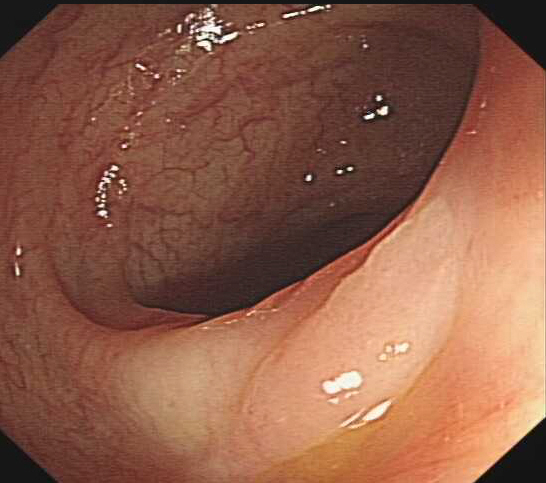others: (241, 192, 463, 461)
